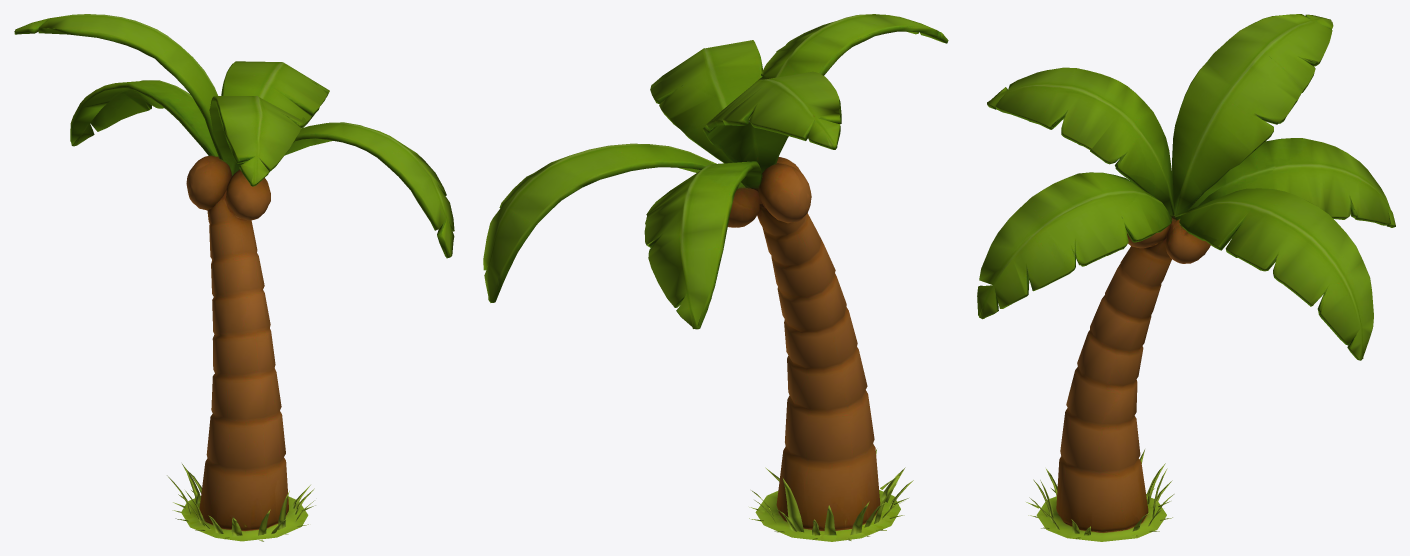
Rendered from Palm3.glb.
3 renders of one model, left to right at view 1: azimuth 30°, elevation 25°; view 2: azimuth 150°, elevation 25°; view 3: azimuth 270°, elevation 25°, orthographic. The views are drawn at different scales.
Parts seen in each view (by area): view 1: tripo_node_4a458e7b-c8ea-4373-b492-7cb6648764fb; view 2: tripo_node_4a458e7b-c8ea-4373-b492-7cb6648764fb; view 3: tripo_node_4a458e7b-c8ea-4373-b492-7cb6648764fb.
Part boxes in pixels (x1,y1,x2,y2): tripo_node_4a458e7b-c8ea-4373-b492-7cb6648764fb: [14, 14, 454, 541]; tripo_node_4a458e7b-c8ea-4373-b492-7cb6648764fb: [483, 14, 948, 541]; tripo_node_4a458e7b-c8ea-4373-b492-7cb6648764fb: [977, 14, 1395, 541].
Bounding box in the file's own units: 0.7051 × 0.998 × 0.8262.
Materials: 1 (1 with a texture image).
